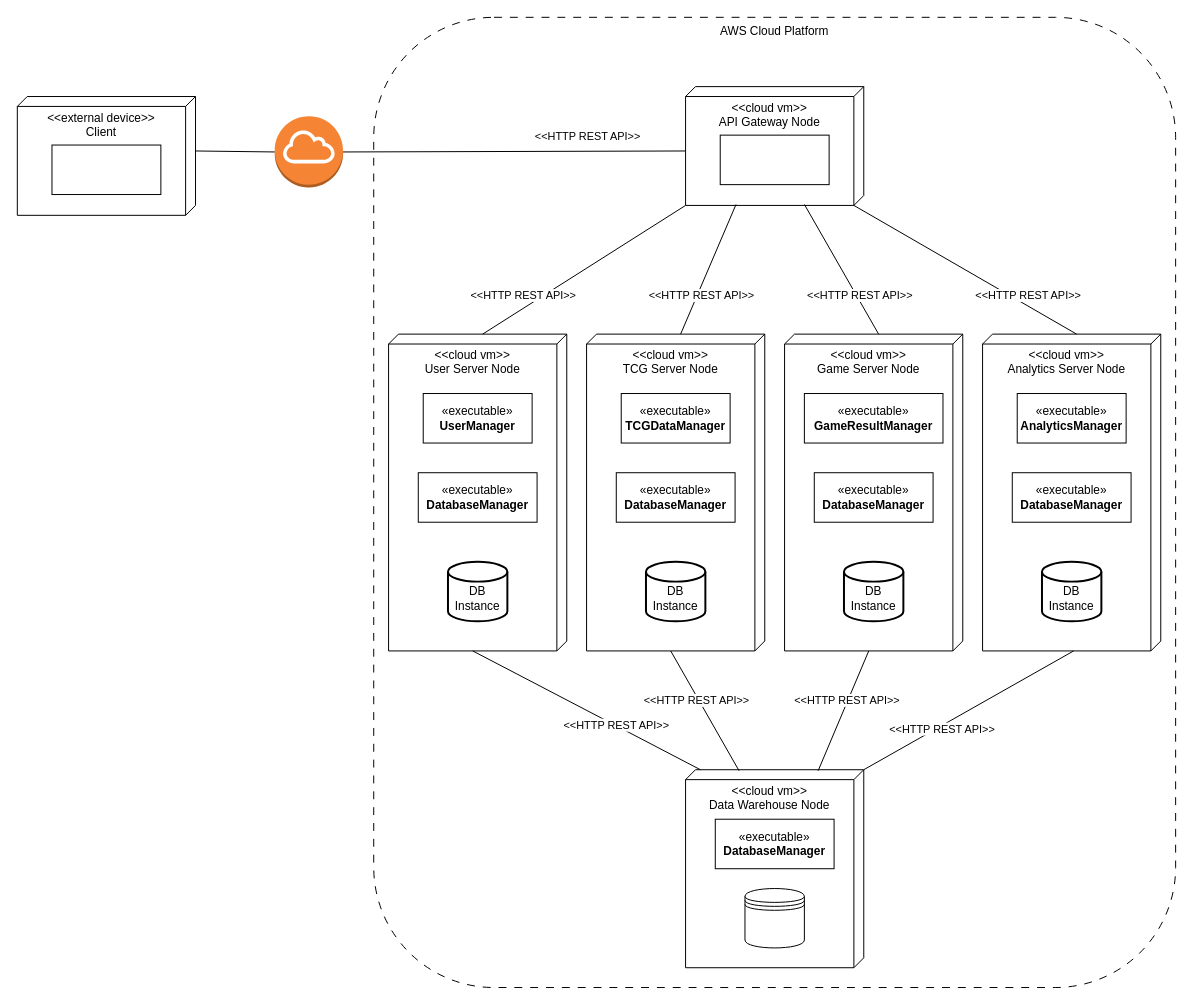
This 1193x1005 diagram has some shape labels left out. Here are the shapes that lost their labels. From the top down, the centre of each, then its label:
At (106,169): "«executable» Client".
At (308,151): "Internet Gateway".
At (774,159): "«executable» APIGateway (Load Balancer)".
At (774,918): "DB Primary".
